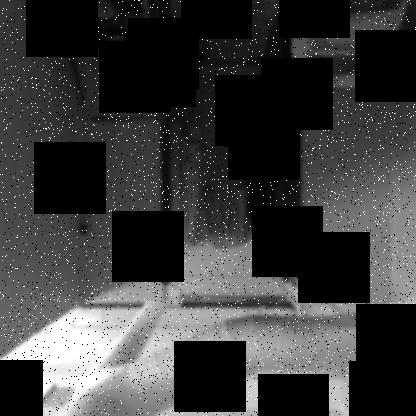Porte: (161, 1, 304, 290)
